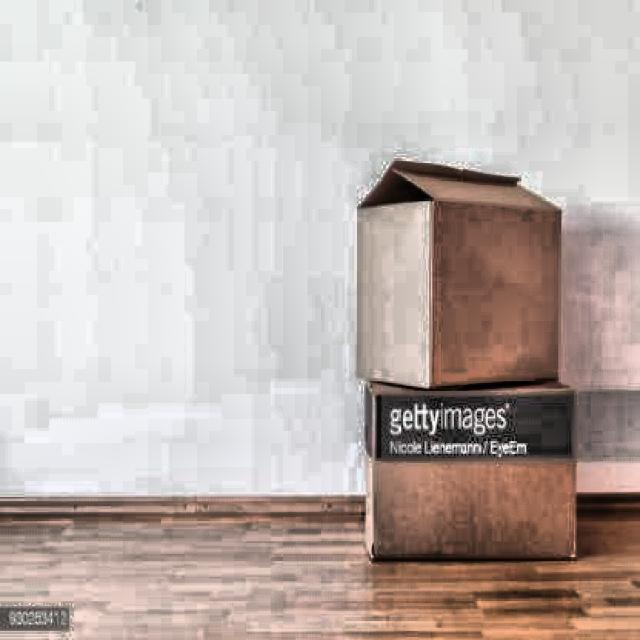Cardbox: (334, 145, 573, 399)
